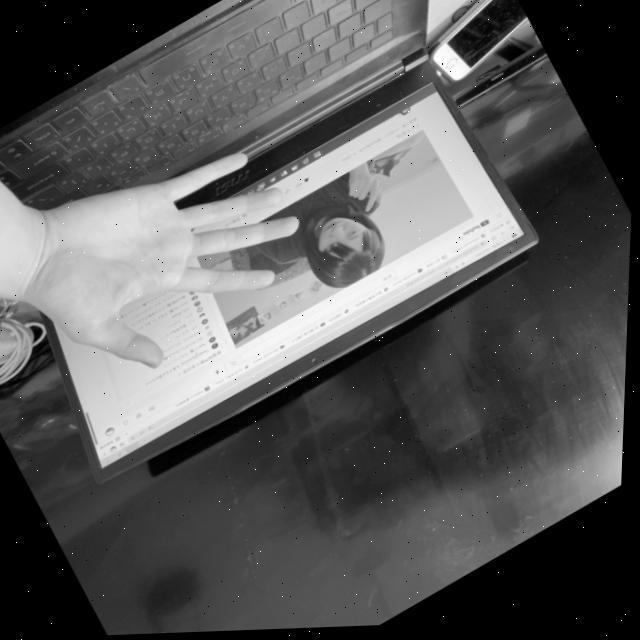no-gloves: (0, 87, 354, 447)
